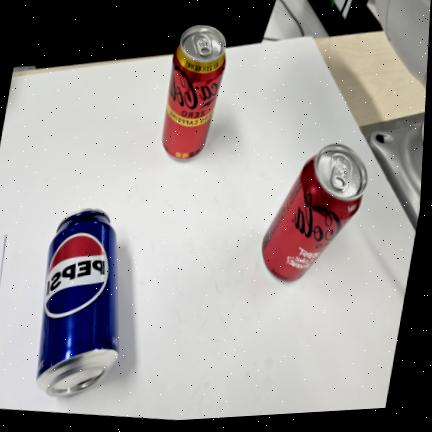can_coke_decaf: (160, 23, 226, 159)
can_coke_zero: (262, 146, 366, 283)
can_pepsi: (36, 208, 118, 398)
